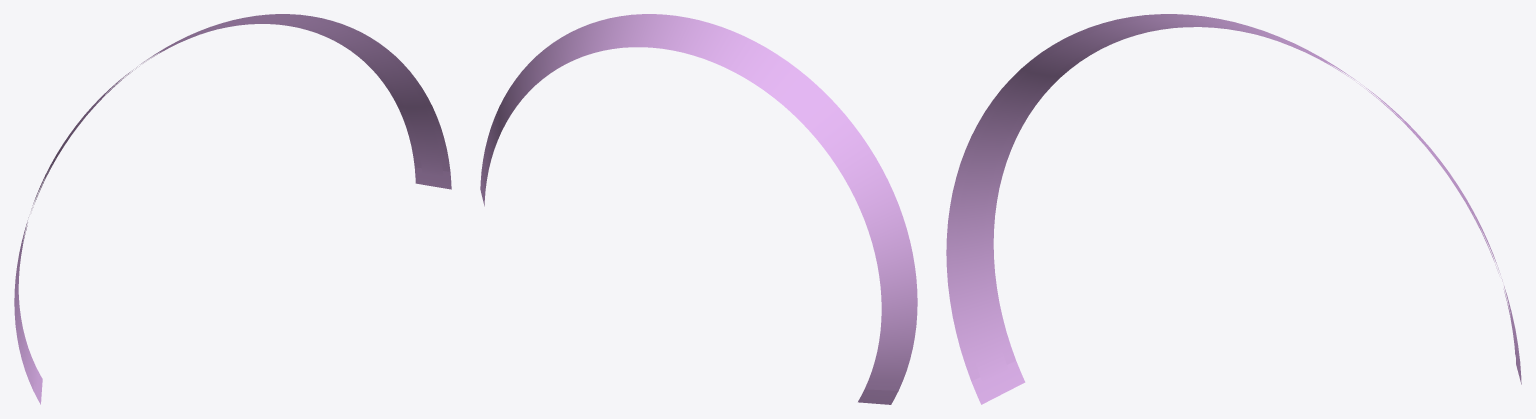
The model's file is Mesh_Note_35.fbx.
The picture shows the model from 3 angles, left to right: view 1: azimuth 30°, elevation 25°; view 2: azimuth 150°, elevation 25°; view 3: azimuth 330°, elevation 25°; orthographic projection. The views are drawn at different scales.
Visible parts, largest first — view 1: Mesh_Note_35; view 2: Mesh_Note_35; view 3: Mesh_Note_35.
Part boxes in pixels (x1,y1,x2,y2): Mesh_Note_35: (14,14,451,404); Mesh_Note_35: (480,14,917,404); Mesh_Note_35: (946,14,1521,404).
Bounding box in the file's own units: 3.56 × 2.63 × 0.2235.
